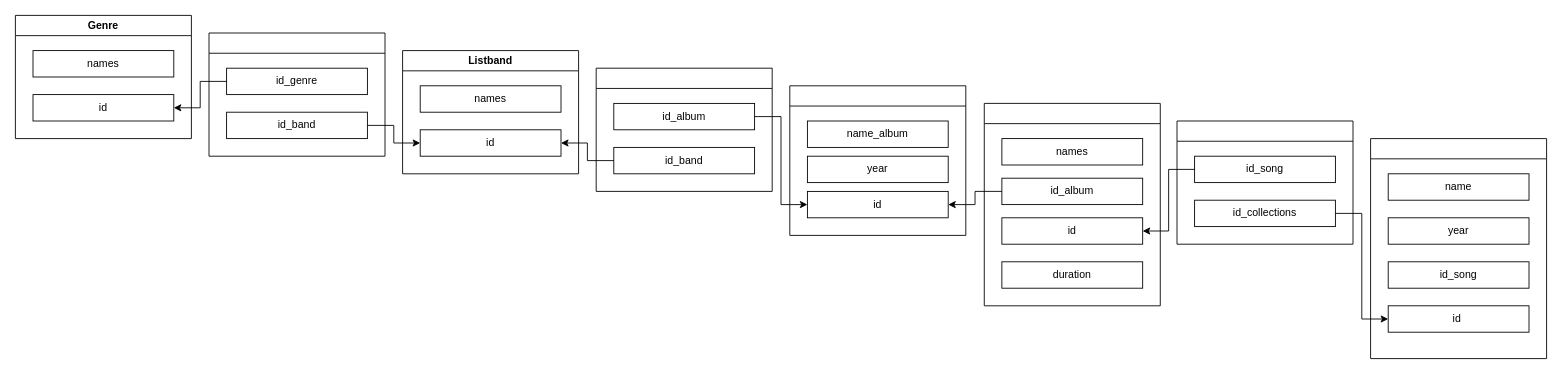
Image size: 1562x374. Some labels were removed from this diagram. Each missing label, with the box of its shape:
Bandalbum: (595, 67, 772, 191)
Bandgenre: (208, 32, 385, 156)
Collections: (1370, 138, 1547, 359)
Listalbum: (789, 85, 966, 235)
Listsong: (983, 103, 1160, 306)
Songcollections: (1176, 120, 1353, 244)
